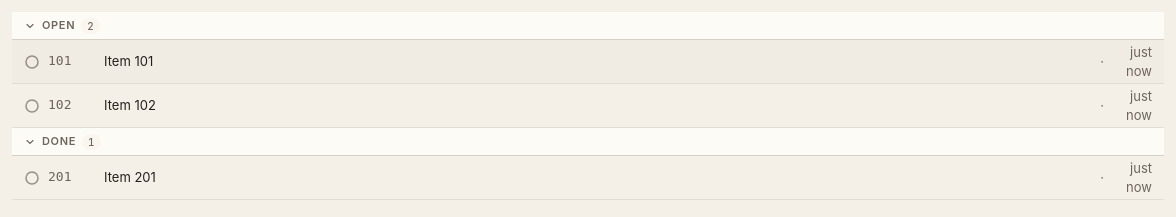
Scenario: ItemTable › opens nothing for a row without menu entries
Right-click the option with test id "item-table-row" at (130, 105), box [12, 84, 1164, 128]
Right-click the option with test id "item-table-row" at (588, 62), box [12, 40, 1164, 84]
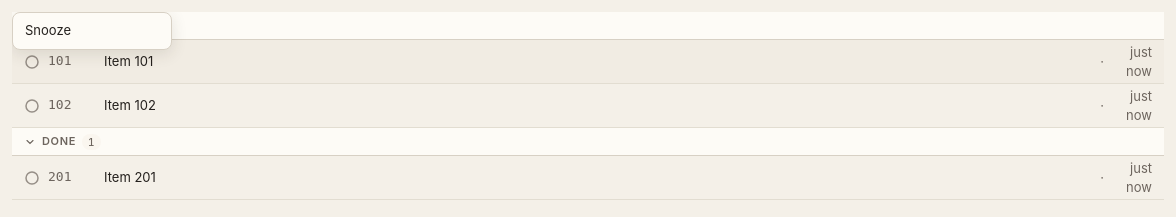
Now the menu is shown, box [12, 12, 172, 50]
